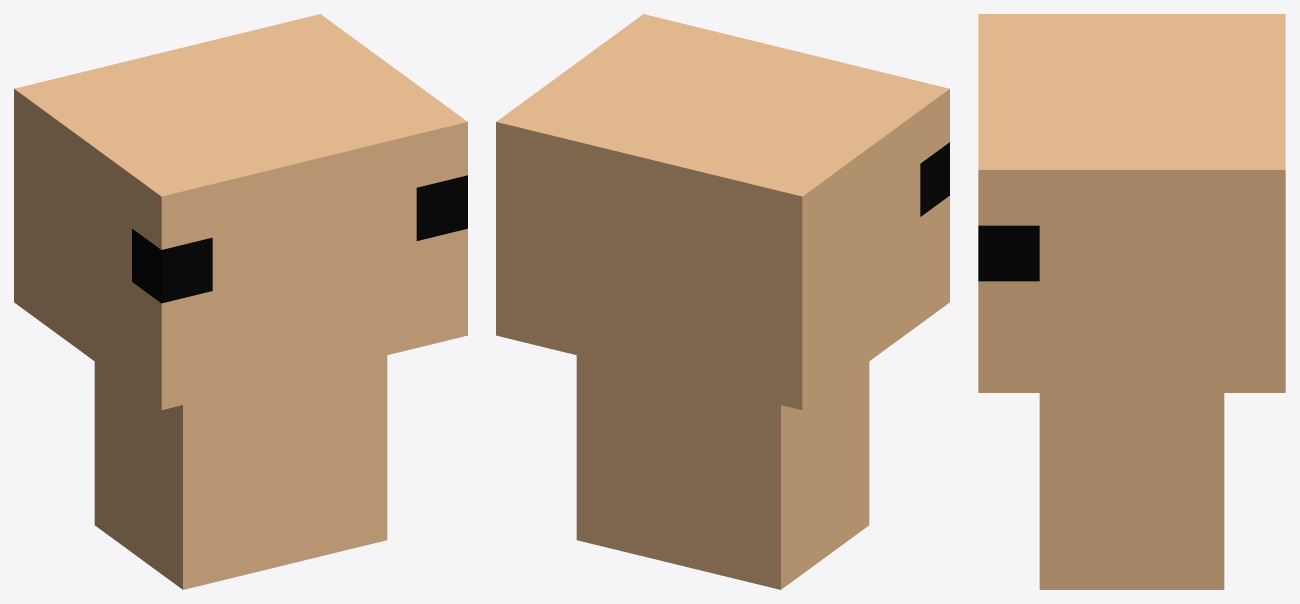
The model's file is newPlayer.vox-0.obj.
3 views of the same model, side by side, from view 1: azimuth 30°, elevation 25°; view 2: azimuth 150°, elevation 25°; view 3: azimuth 270°, elevation 25° (orthographic). The views are drawn at different scales.
Size of the model in its own units: 0.6 by 0.8 by 0.5.
1 material, 1 textured.
